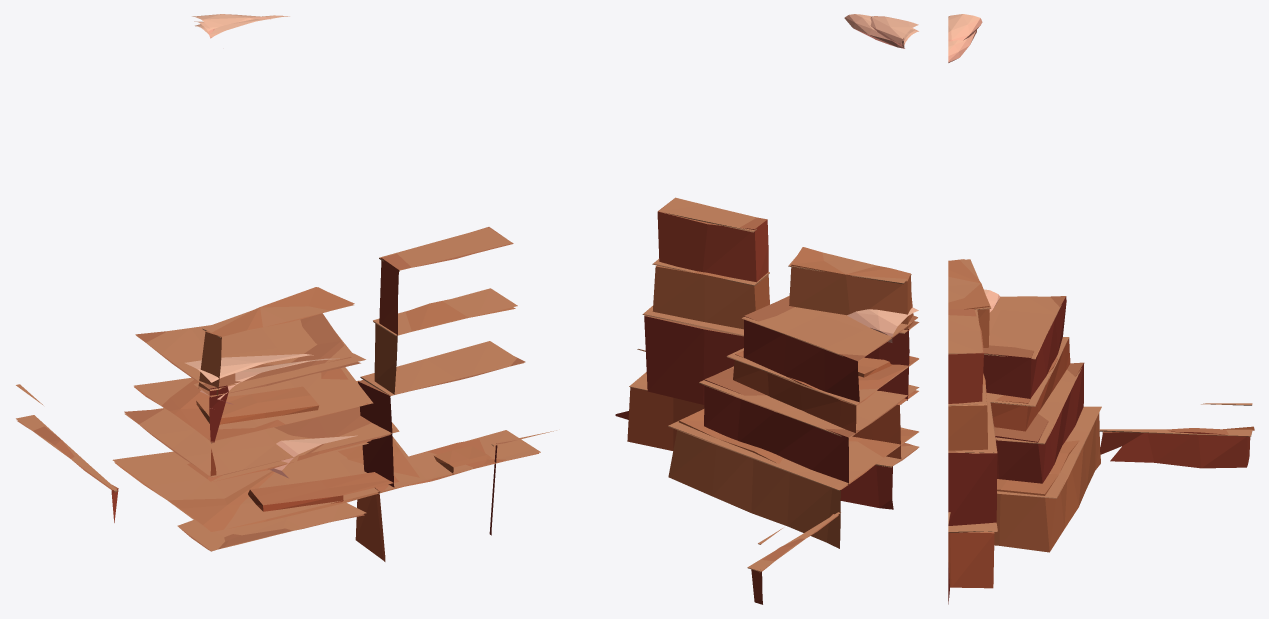
3 views of the same model, side by side, from view 1: azimuth 30°, elevation 25°; view 2: azimuth 150°, elevation 25°; view 3: azimuth 270°, elevation 25° (orthographic). The views are drawn at different scales.
Parts seen in each view (by area): view 1: scene.5.0 (×2); view 2: scene.5.0 (×2); view 3: scene.5.0 (×2).
Boxes of the visible parts, left/top/right/bottom form: scene.5.0 (×2): left=16, top=14, right=556, bottom=561; scene.5.0 (×2): left=615, top=14, right=919, bottom=604; scene.5.0 (×2): left=948, top=14, right=1254, bottom=604.
Size of the model in its own units: 62.5 by 92.17 by 56.83.
